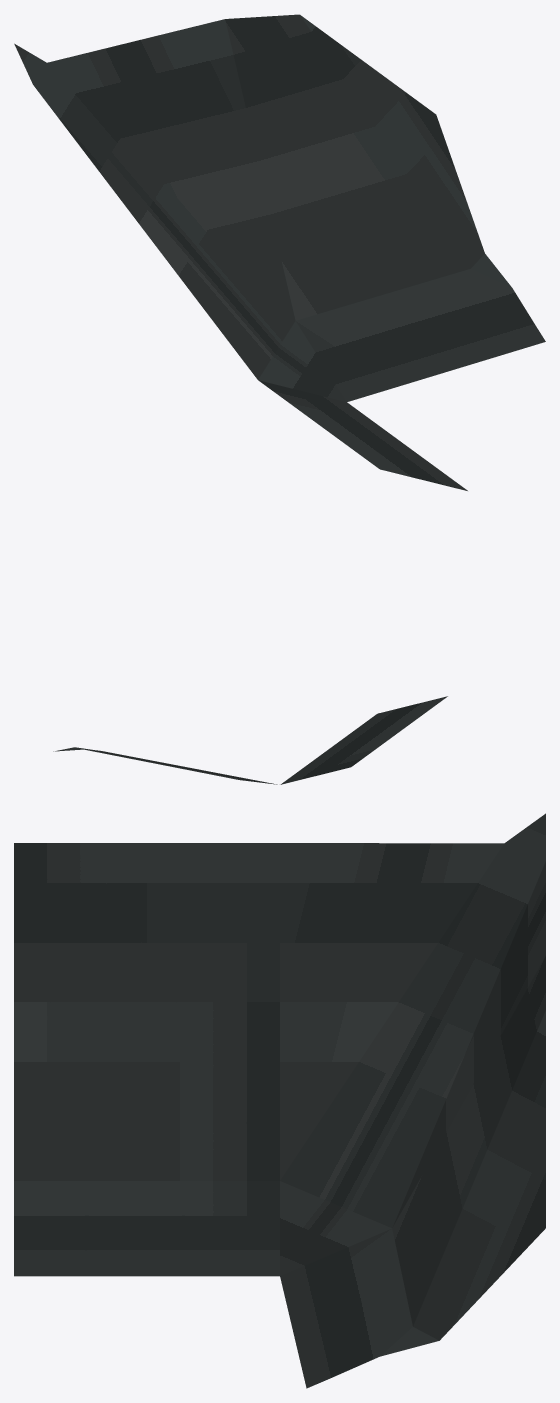
The picture shows the model from 3 angles, top to bottom: view 1: azimuth 30°, elevation 25°; view 2: azimuth 150°, elevation 25°; view 3: azimuth 270°, elevation 25°; orthographic projection. The views are drawn at different scales.
Size of the model in its own units: 1 by 0.7268 by 1.
2 materials, 2 textured.
